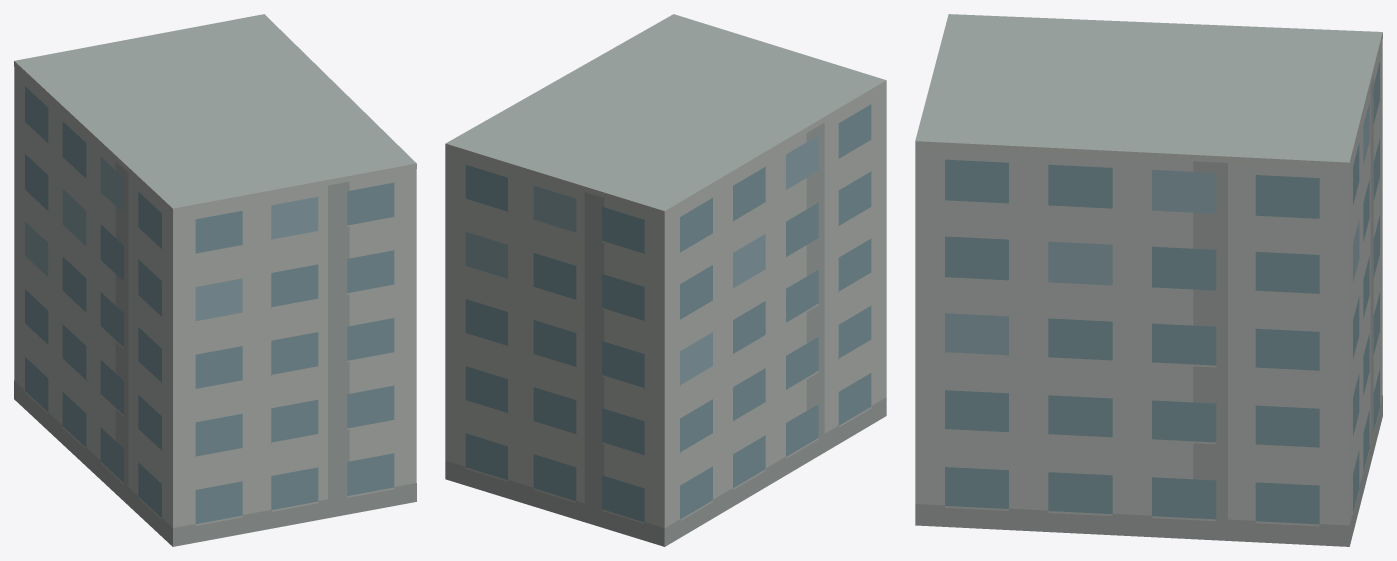
The model's file is survey-upis-32964722.glb.
3 views of the same model, side by side, from view 1: azimuth 30°, elevation 25°; view 2: azimuth 150°, elevation 25°; view 3: azimuth 270°, elevation 25° (orthographic). The views are drawn at different scales.
Visible parts, largest first — view 1: survey-upis-32964722.tmp; view 2: survey-upis-32964722.tmp; view 3: survey-upis-32964722.tmp.
Boxes of the visible parts, <box> form: survey-upis-32964722.tmp: <box>14,14,416,546</box>; survey-upis-32964722.tmp: <box>445,14,886,546</box>; survey-upis-32964722.tmp: <box>915,14,1382,546</box>.
Size of the model in its own units: 12.11 by 14.6 by 16.11.
